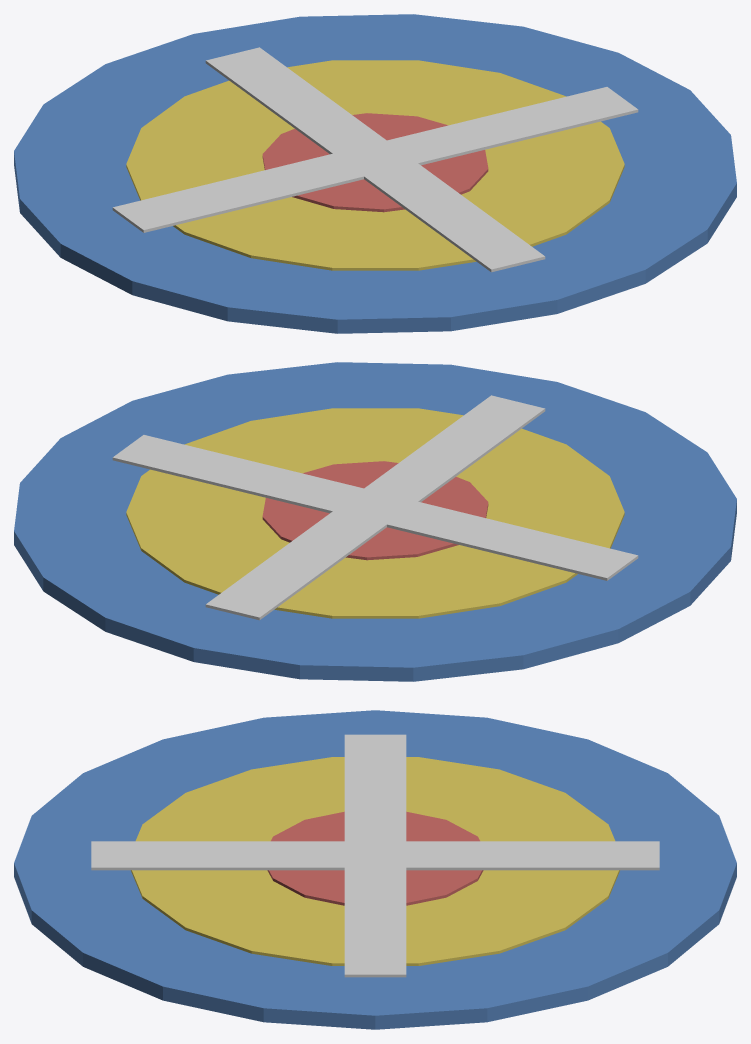
File: kids_tapete_sala.glb
3 views of the same model, one above another, from view 1: azimuth 30°, elevation 25°; view 2: azimuth 150°, elevation 25°; view 3: azimuth 270°, elevation 25° (orthographic).
Parts seen in each view (by area): view 1: KIDS_TAPETE_SALA_v01; view 2: KIDS_TAPETE_SALA_v01; view 3: KIDS_TAPETE_SALA_v01.
Boxes of the visible parts, x1=… form: KIDS_TAPETE_SALA_v01: x1=14, y1=14, x2=736, y2=333; KIDS_TAPETE_SALA_v01: x1=14, y1=362, x2=736, y2=681; KIDS_TAPETE_SALA_v01: x1=14, y1=710, x2=736, y2=1029.
Size of the model in its own units: 1.4 by 0.048 by 1.4.
